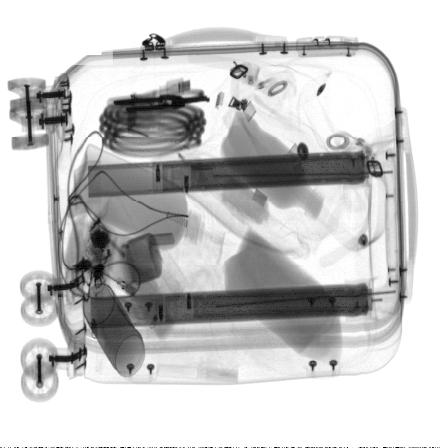Pliers: (112, 94, 209, 113)
